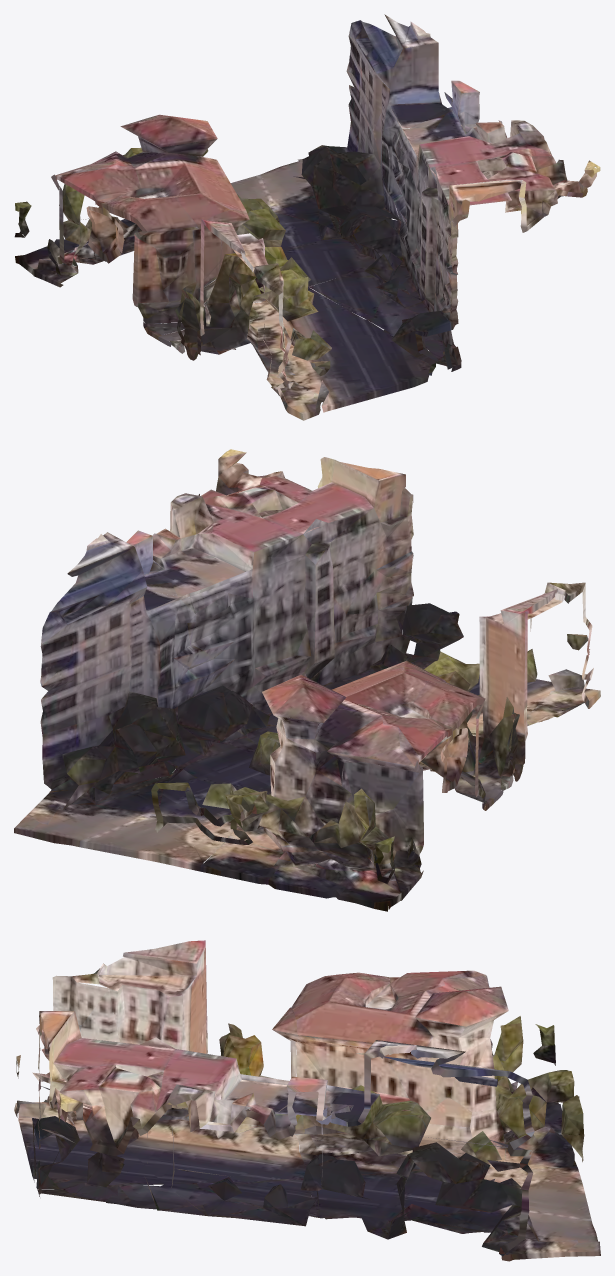
3 views of the same model, one above another, from view 1: azimuth 30°, elevation 25°; view 2: azimuth 150°, elevation 25°; view 3: azimuth 270°, elevation 25° (orthographic). The views are drawn at different scales.
Visible parts, largest first — view 1: Mesh_0; view 2: Mesh_0; view 3: Mesh_0.
Boxes of the visible parts, left/top/right/bottom form: Mesh_0: left=14, top=14, right=600, bottom=420; Mesh_0: left=14, top=449, right=600, bottom=911; Mesh_0: left=14, top=940, right=600, bottom=1261.
Size of the model in its own units: 66.88 by 36.11 by 82.55.
1 material, 1 textured.
